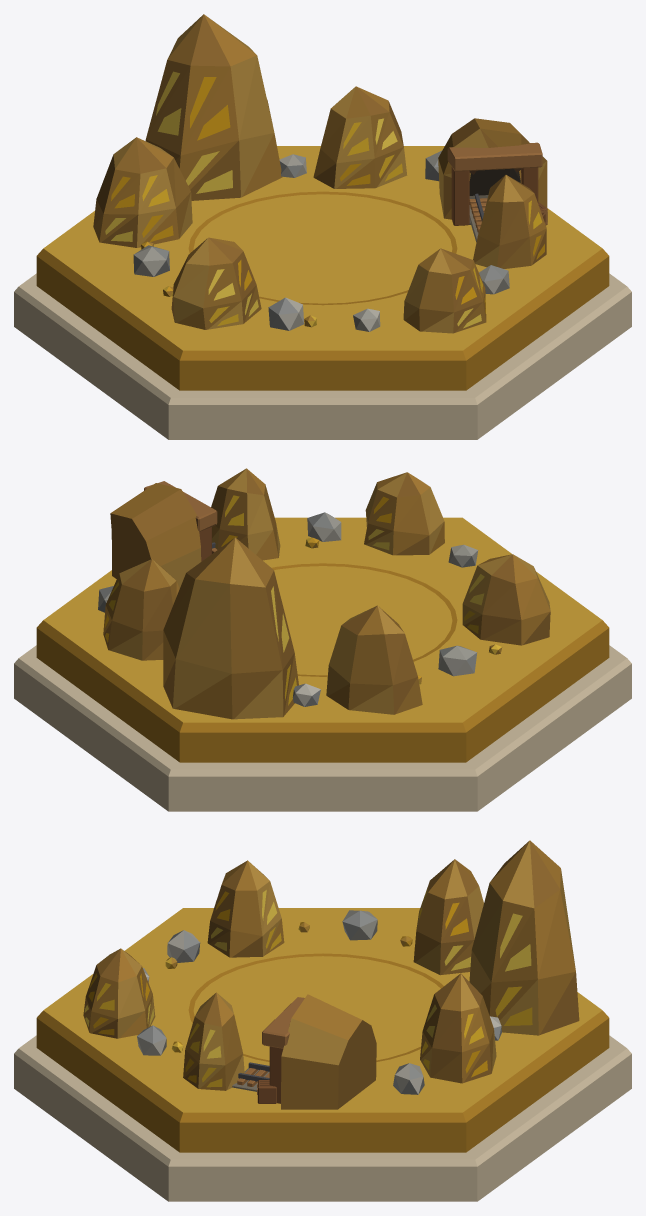
Rendered from hex_gold.glb.
The picture shows the model from 3 angles, top to bottom: view 1: azimuth 30°, elevation 25°; view 2: azimuth 150°, elevation 25°; view 3: azimuth 270°, elevation 25°; orthographic projection.
Parts seen in each view (by area): view 1: hex_gold; view 2: hex_gold; view 3: hex_gold.
Boxes of the visible parts, x1,y1,x2,y2 form: hex_gold: (14, 14, 631, 439); hex_gold: (14, 468, 631, 811); hex_gold: (14, 840, 631, 1201).
Bounding box in the file's own units: 1.73 × 0.86 × 2.
